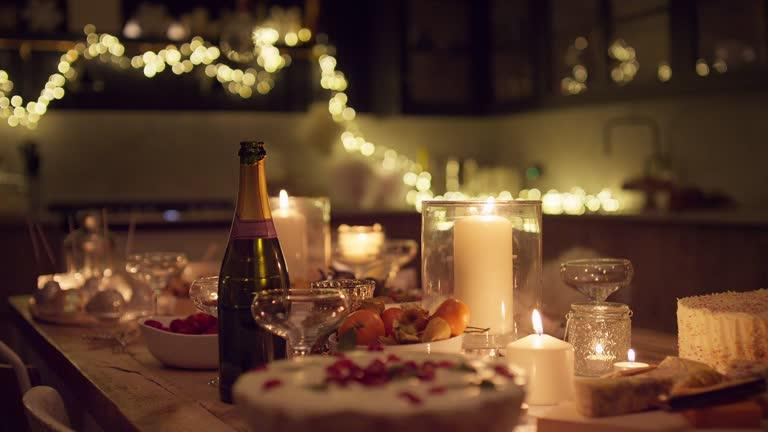controlled_fire: (590, 335, 667, 373), (516, 306, 557, 354), (264, 177, 299, 231)
